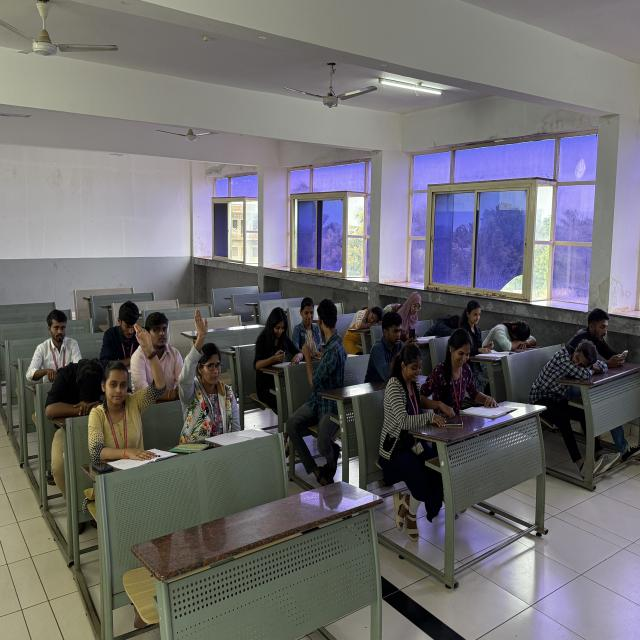Hand Rising: (86, 355, 168, 483), (176, 322, 230, 446)
Reading: (392, 274, 441, 352)
Sleeping: (540, 324, 605, 436), (45, 356, 110, 426), (478, 319, 535, 395), (343, 300, 387, 354)
Using Phone: (560, 294, 632, 391)
Writing: (252, 306, 300, 440), (459, 302, 502, 394)
